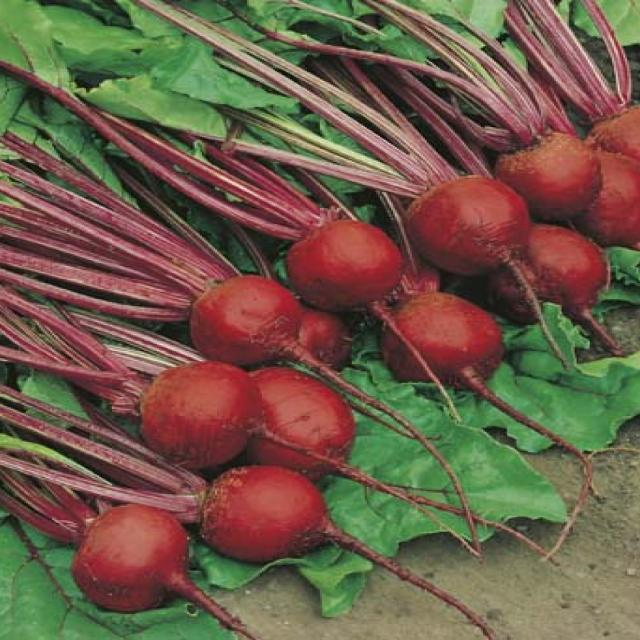beet: (187, 476, 360, 566), (67, 496, 200, 606), (391, 169, 521, 278), (368, 295, 508, 393), (139, 358, 261, 469), (252, 367, 354, 483), (188, 275, 312, 370), (278, 222, 400, 310), (513, 220, 611, 326), (499, 133, 595, 217)
